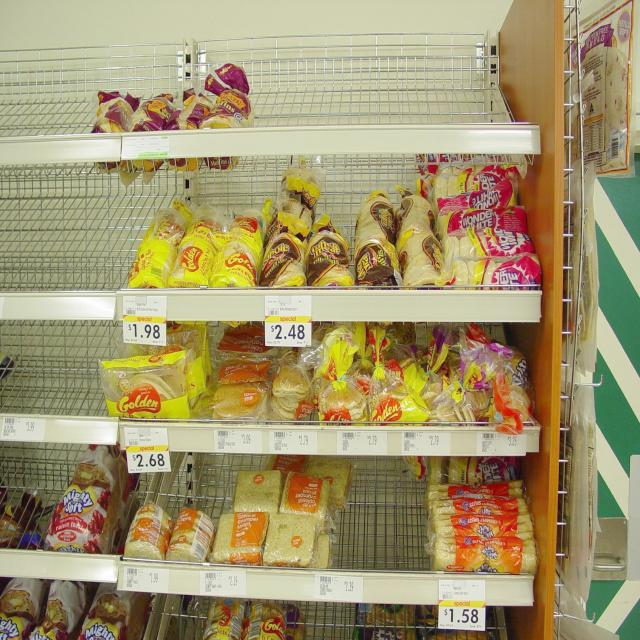empty_space: (257, 56, 505, 128), (0, 56, 94, 136), (3, 201, 137, 251), (350, 486, 424, 570), (4, 328, 100, 372), (322, 166, 358, 224), (6, 451, 66, 484), (210, 171, 270, 201), (200, 452, 233, 503), (364, 162, 404, 190)
